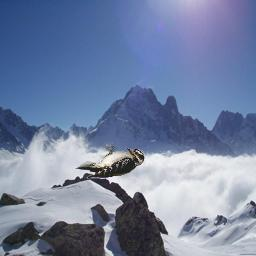Woodpecker: (75, 146, 149, 181)
